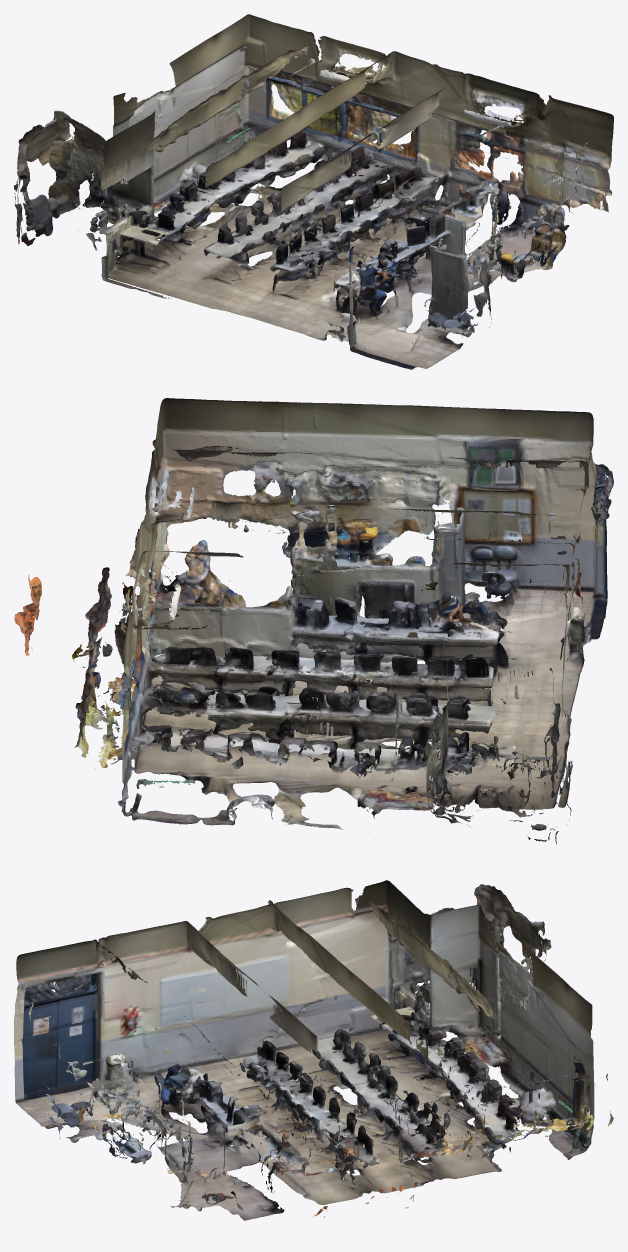
The model's file is laboratorio.glb.
3 renders of one model, top to bottom at view 1: azimuth 30°, elevation 25°; view 2: azimuth 150°, elevation 25°; view 3: azimuth 270°, elevation 25°, orthographic. The views are drawn at different scales.
Parts seen in each view (by area): view 1: mesh; view 2: mesh; view 3: mesh.
Part boxes in pixels (x1,y1,x2,y2): mesh: (14,14,613,369); mesh: (14,398,613,844); mesh: (14,880,613,1220).
Size of the model in its own units: 12.77 by 3.71 by 12.7.
Materials: 1 (1 with a texture image).
